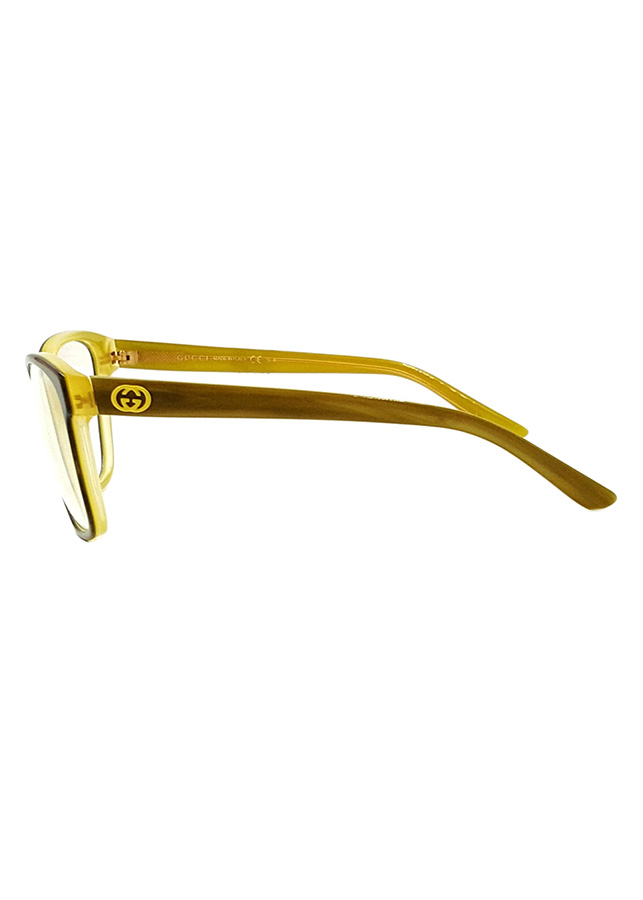Gucci: (103, 377, 153, 417), (172, 351, 211, 371)
